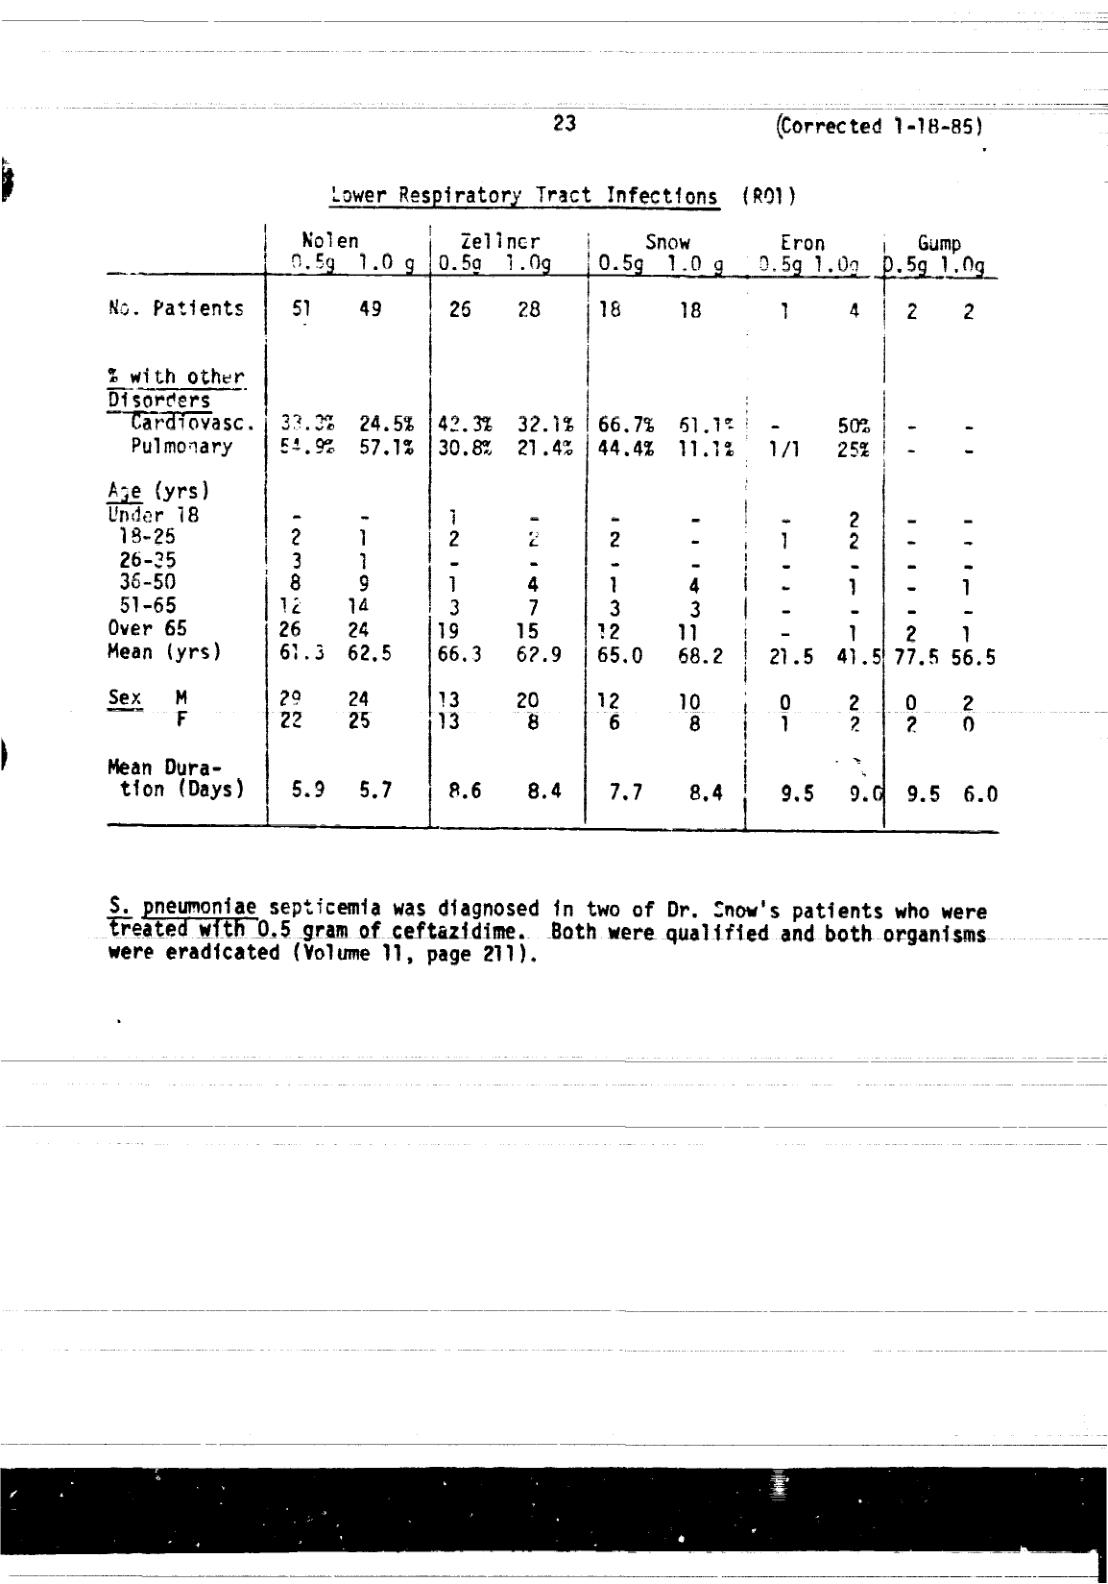partial_lined: (101, 221, 1009, 837)
